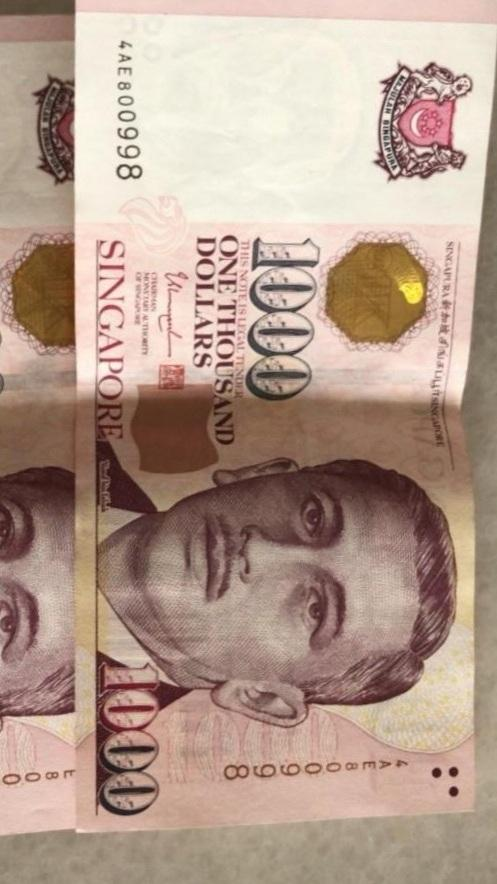1000SingaporeDollar: (79, 0, 472, 815)
